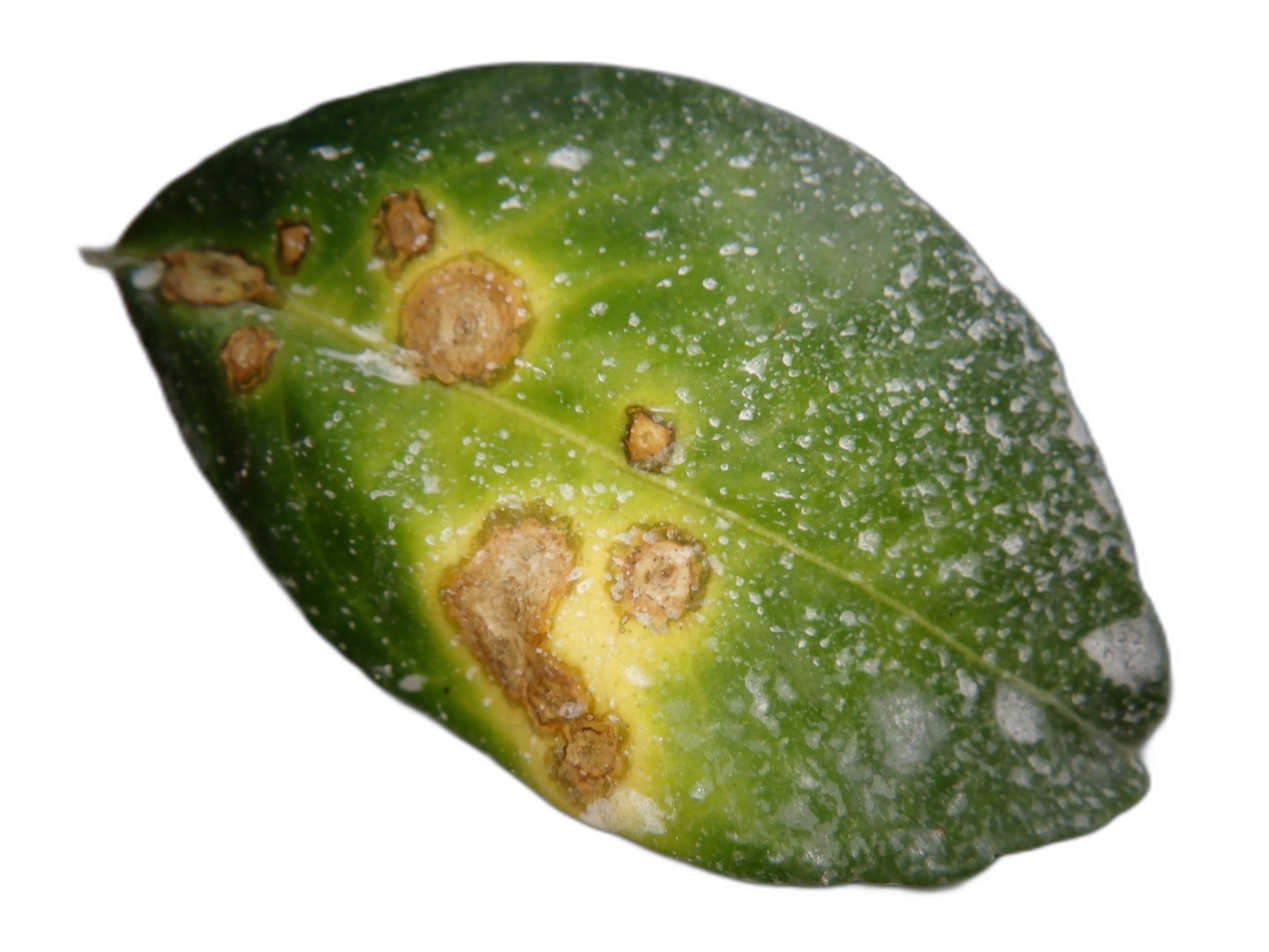Canker: (439, 503, 628, 804), (371, 189, 534, 386), (612, 519, 712, 630), (157, 249, 275, 306), (218, 322, 280, 393), (619, 404, 681, 474), (276, 219, 312, 276)
